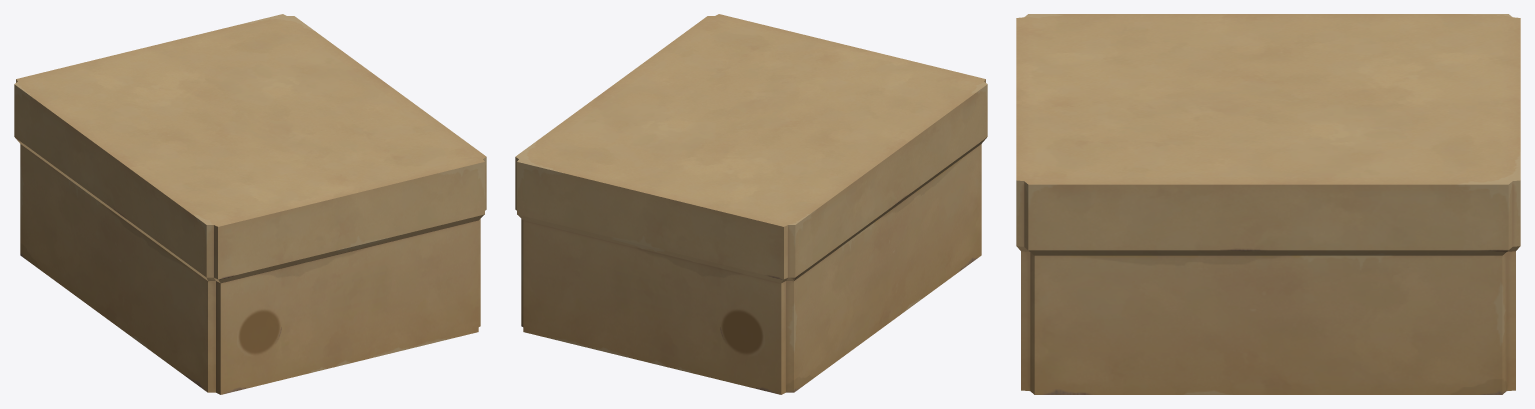
File: P_ShoesBox_001_S1_M01.obj
3 views of the same model, side by side, from view 1: azimuth 30°, elevation 25°; view 2: azimuth 150°, elevation 25°; view 3: azimuth 270°, elevation 25° (orthographic). The views are drawn at different scales.
Bounding box in the file's own units: 0.3999 × 0.2326 × 0.4996.
1 material, 1 textured.
